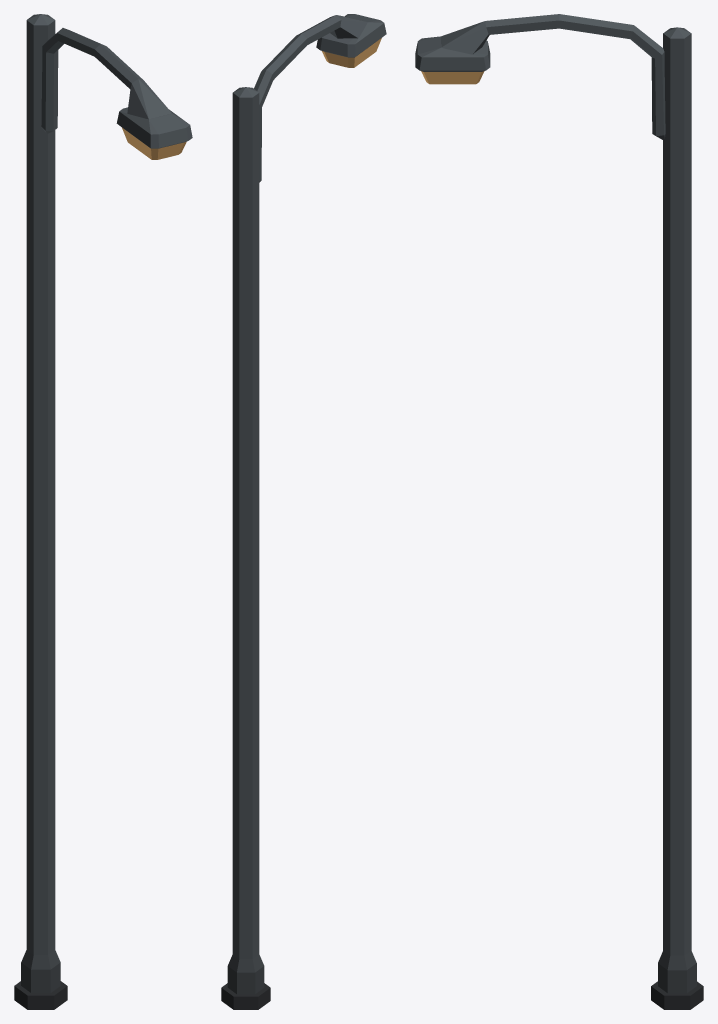
The model's file is StreetLight.fbx.
The picture shows the model from 3 angles, left to right: view 1: azimuth 30°, elevation 25°; view 2: azimuth 150°, elevation 25°; view 3: azimuth 270°, elevation 25°; orthographic projection. The views are drawn at different scales.
Visible parts, largest first — view 1: Street_Light; view 2: Street_Light; view 3: Street_Light.
Part boxes in pixels (bbox=[...]): Street_Light: bbox=[14, 14, 192, 1009]; Street_Light: bbox=[221, 14, 386, 1009]; Street_Light: bbox=[415, 14, 703, 1009].
Bounding box in the file's own units: 43.56 × 987 × 261.
